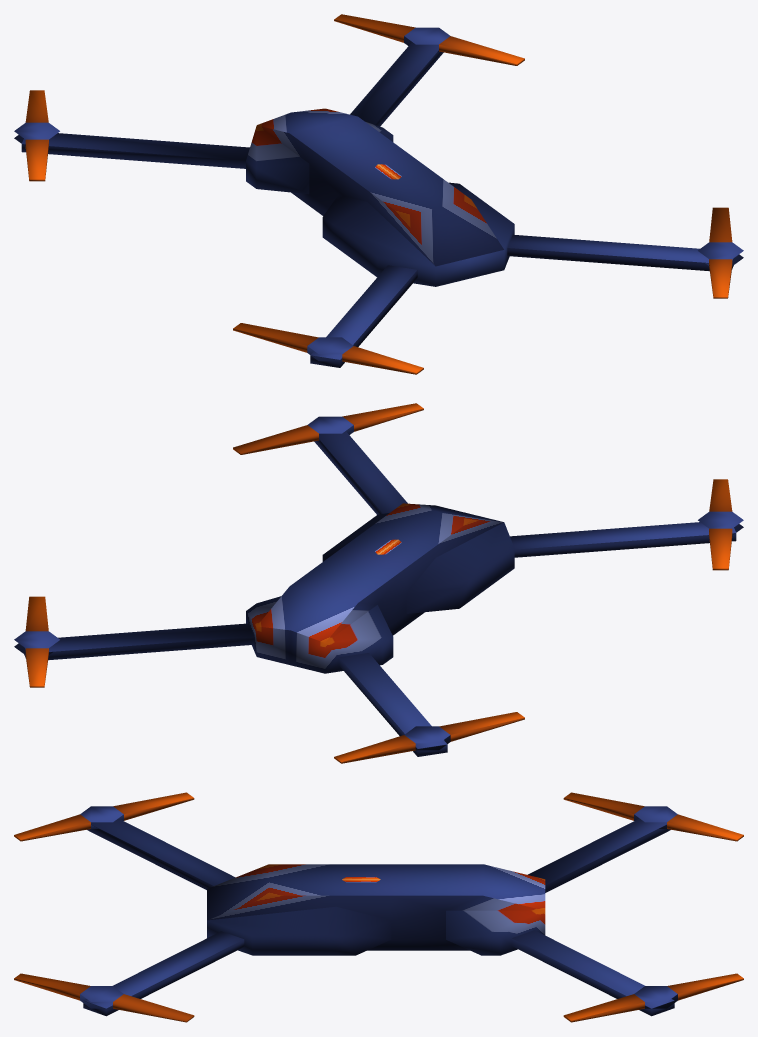
Rendered from Drone.fbx.
3 views of the same model, one above another, from view 1: azimuth 30°, elevation 25°; view 2: azimuth 150°, elevation 25°; view 3: azimuth 270°, elevation 25° (orthographic). The views are drawn at different scales.
Visible parts, largest first — view 1: Drone; view 2: Drone; view 3: Drone.
Boxes of the visible parts, x1,y1,x2,y2 form: Drone: (14,14,743,374); Drone: (14,403,743,763); Drone: (14,792,743,1022).
Size of the model in its own units: 73.96 by 8.35 by 99.89.
